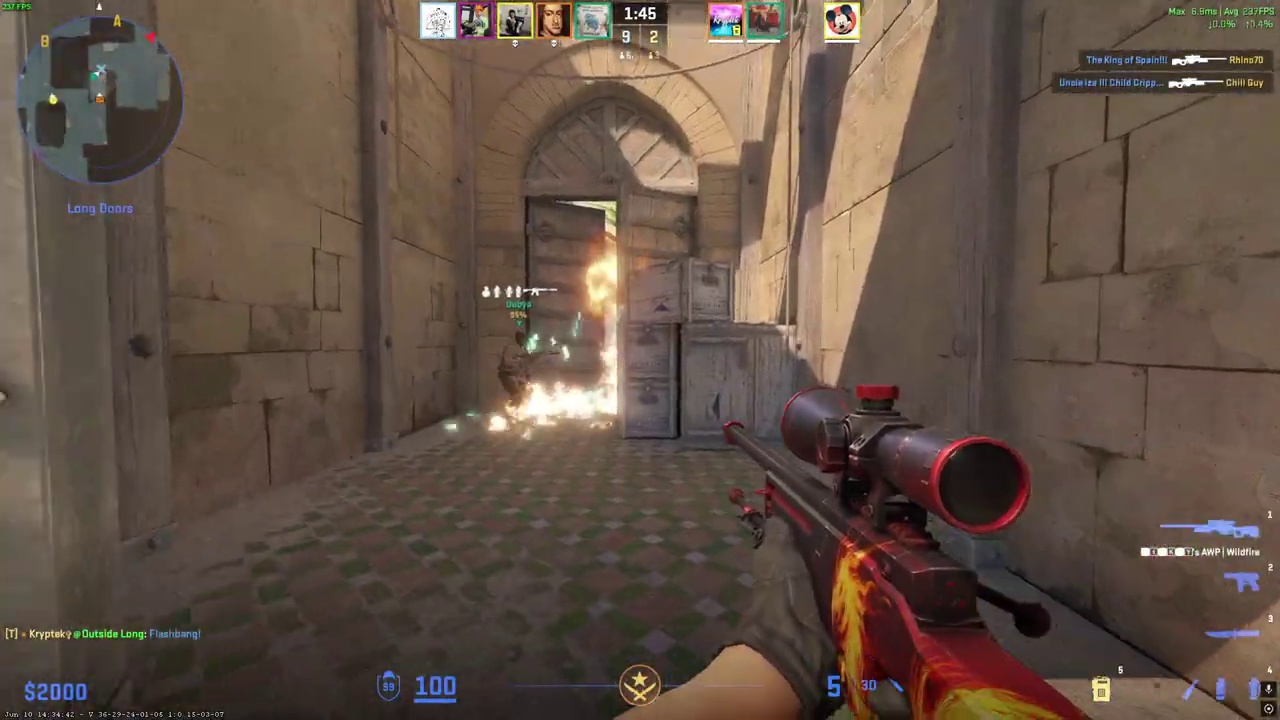Terrorist: (497, 330, 535, 412)
